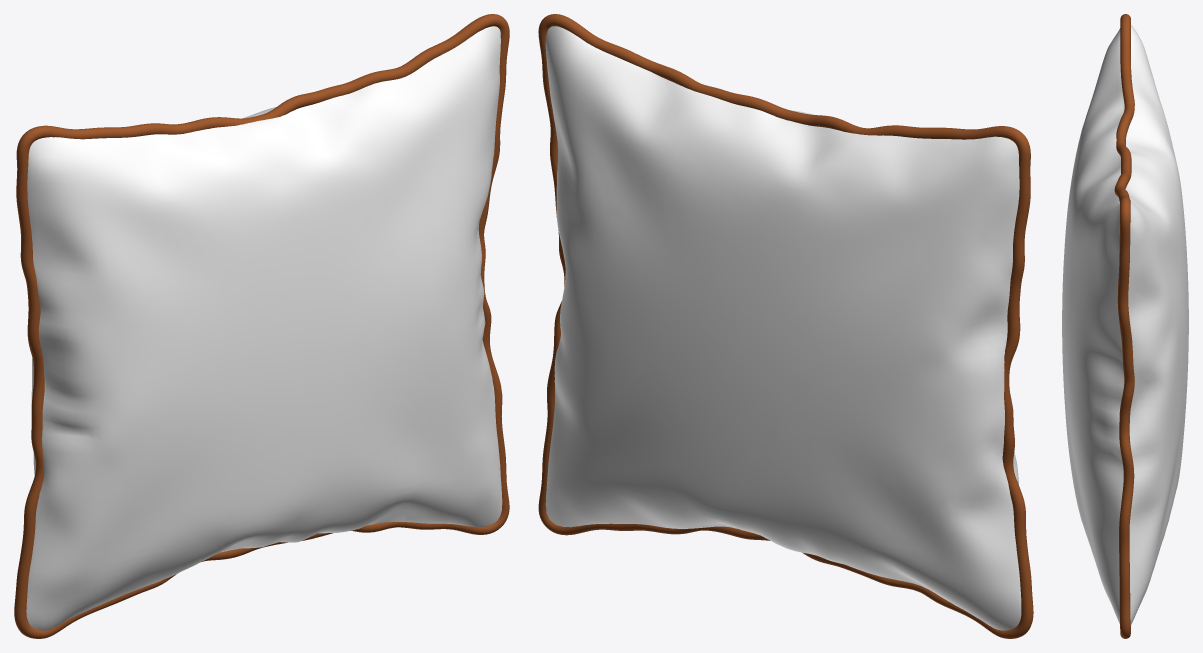
File: cojin4.glb
3 views of the same model, side by side, from view 1: azimuth 30°, elevation 25°; view 2: azimuth 150°, elevation 25°; view 3: azimuth 270°, elevation 25° (orthographic). The views are drawn at different scales.
Parts seen in each view (by area): view 1: Object_4, Object_8; view 2: Object_6, Object_8; view 3: Object_6, Object_4, Object_8.
Boxes of the visible parts, <box> form: Object_4: <box>26,26,502,630</box>; Object_8: <box>14,14,509,638</box>; Object_6: <box>545,26,1021,630</box>; Object_8: <box>538,14,1033,638</box>; Object_6: <box>1125,25,1188,625</box>; Object_4: <box>1062,28,1124,623</box>; Object_8: <box>1114,14,1134,638</box>.
Bounding box in the file's own units: 196 × 197 × 51.72.
Materials: 2 (1 with a texture image).
